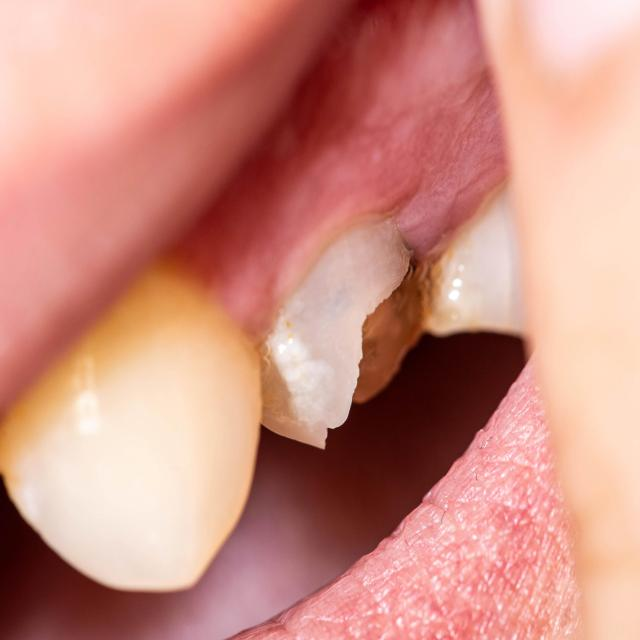Cavity: (354, 255, 431, 399)
Tooth: (1, 266, 261, 591), (256, 219, 434, 448)
